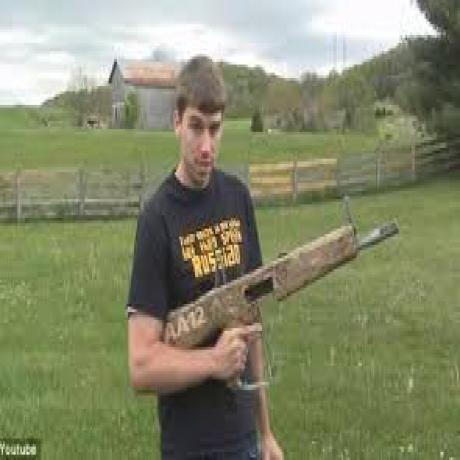Guns: (142, 202, 408, 390)
